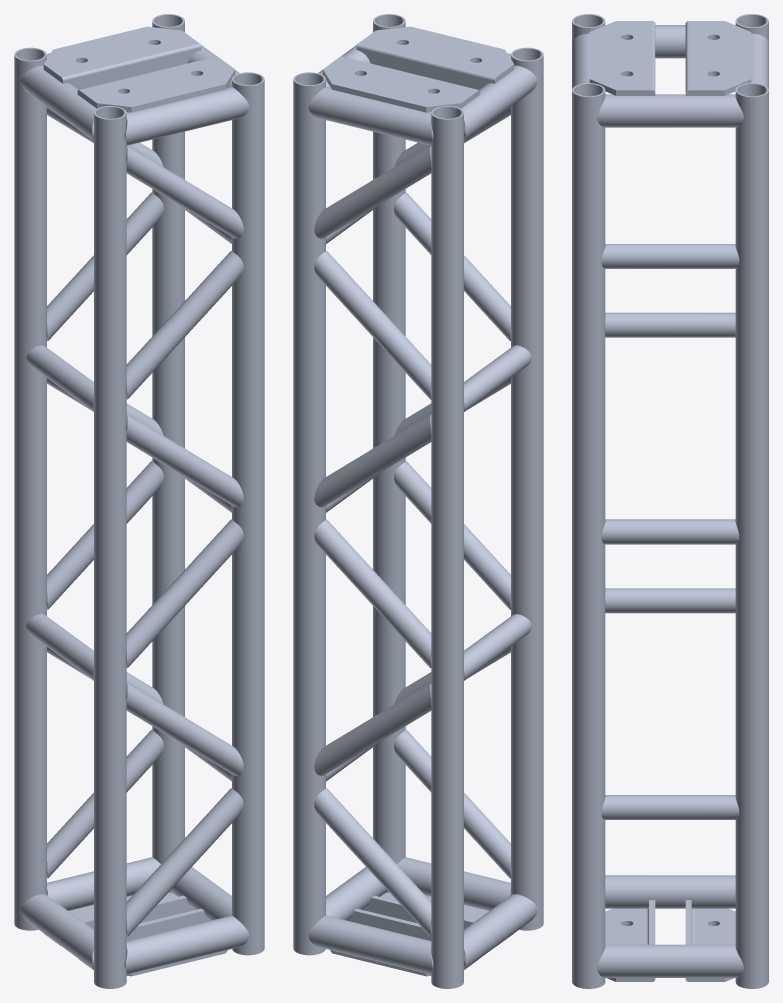
Rendered from TORRE_AL-P30_1,5M.glb.
3 renders of one model, left to right at view 1: azimuth 30°, elevation 25°; view 2: azimuth 150°, elevation 25°; view 3: azimuth 270°, elevation 25°, orthographic. The views are drawn at different scales.
Parts seen in each view (by area): view 1: Tubo principal 1,5m AL P30-4, Tubo principal 1,5m AL P30-3, Tubo principal 1,5m AL P30-1, Tubo principal 1,5m AL P30-2, Chapa de cabeça_AL-P30-1 (×2), Tubo de Cabeça ALP30-1 (×2), Chapa de cabeça_AL-P30-2 (×2), Tubo de Cabeça ALP30-2 (×2), Tubo Red. 2,38x38,1mm-282mm-12, Tubo Red. 2,38x38,1mm-282mm-16, Tubo Red. 2,38x38,1mm-282mm-14, Tubo de Cabeça ALP30-4 (+10 smaller); view 2: Tubo principal 1,5m AL P30-1, Tubo principal 1,5m AL P30-2, Tubo principal 1,5m AL P30-4, Tubo principal 1,5m AL P30-3, Chapa de cabeça_AL-P30-2 (×2), Tubo de Cabeça ALP30-4 (×2), Chapa de cabeça_AL-P30-1 (×2), Tubo de Cabeça ALP30-2 (×2), Tubo Red. 2,38x38,1mm-282mm-10, Tubo Red. 2,38x38,1mm-282mm-15, Tubo Red. 2,38x38,1mm-282mm-13, Tubo de Cabeça ALP30-1 (+10 smaller); view 3: Tubo principal 1,5m AL P30-2, Tubo principal 1,5m AL P30-3, Tubo de Cabeça ALP30-6 (×2), Chapa de cabeça_AL-P30-1 (×2), Chapa de cabeça_AL-P30-2 (×2), Tubo de Cabeça ALP30-2 (×2), Tubo Red. 2,38x38,1mm-210mm-3, Tubo Red. 2,38x38,1mm-210mm-2, Tubo Red. 2,38x38,1mm-210mm-4, Tubo Red. 2,38x38,1mm-210mm-1, Tubo Red. 2,38x38,1mm-210mm-5, Tubo de Cabeça ALP30-4 (+3 smaller).
Boxes of the visible parts, x1,y1,x2,y2 form: Tubo principal 1,5m AL P30-4: (94,106,126,988); Tubo principal 1,5m AL P30-3: (232,72,264,955); Tubo principal 1,5m AL P30-1: (14,47,46,930); Tubo principal 1,5m AL P30-2: (152,14,184,893); Chapa de cabeça_AL-P30-1 (×2): (43,26,227,976); Tubo de Cabeça ALP30-1 (×2): (47,86,249,910); Chapa de cabeça_AL-P30-2 (×2): (45,56,235,946); Tubo de Cabeça ALP30-2 (×2): (20,65,96,969); Tubo Red. 2,38x38,1mm-282mm-12: (126,251,243,399); Tubo Red. 2,38x38,1mm-282mm-16: (126,788,243,936); Tubo Red. 2,38x38,1mm-282mm-14: (126,519,243,668); Tubo de Cabeça ALP30-4: (124,915,249,974); Tubo principal 1,5m AL P30-1: (431,106,463,988); Tubo principal 1,5m AL P30-2: (293,72,325,955); Tubo principal 1,5m AL P30-4: (511,47,543,930); Tubo principal 1,5m AL P30-3: (373,14,405,893); Chapa de cabeça_AL-P30-2 (×2): (330,26,514,976); Tubo de Cabeça ALP30-4 (×2): (308,86,510,910); Chapa de cabeça_AL-P30-1 (×2): (322,56,513,946); Tubo de Cabeça ALP30-2 (×2): (461,65,537,969); Tubo Red. 2,38x38,1mm-282mm-10: (314,251,431,399); Tubo Red. 2,38x38,1mm-282mm-15: (314,788,431,936); Tubo Red. 2,38x38,1mm-282mm-13: (314,519,431,668); Tubo de Cabeça ALP30-1: (308,915,433,974); Tubo principal 1,5m AL P30-2: (735,83,768,988); Tubo principal 1,5m AL P30-3: (572,83,605,988); Tubo de Cabeça ALP30-6 (×2): (597,94,743,977); Chapa de cabeça_AL-P30-1 (×2): (605,21,751,981); Chapa de cabeça_AL-P30-2 (×2): (589,21,735,981); Tubo de Cabeça ALP30-2 (×2): (605,25,735,908); Tubo Red. 2,38x38,1mm-210mm-3: (601,519,739,544); Tubo Red. 2,38x38,1mm-210mm-2: (605,588,735,613); Tubo Red. 2,38x38,1mm-210mm-4: (605,312,735,337); Tubo Red. 2,38x38,1mm-210mm-1: (601,795,739,819); Tubo Red. 2,38x38,1mm-210mm-5: (601,244,739,268); Tubo de Cabeça ALP30-4: (751,33,768,89).
Bounding box in the file's own units: 0.3 × 1.5 × 0.3001.
